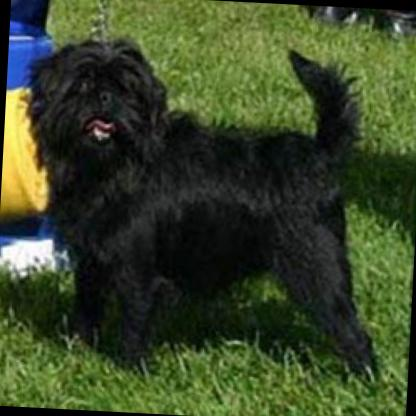affenpinscher: (0, 24, 398, 387)
